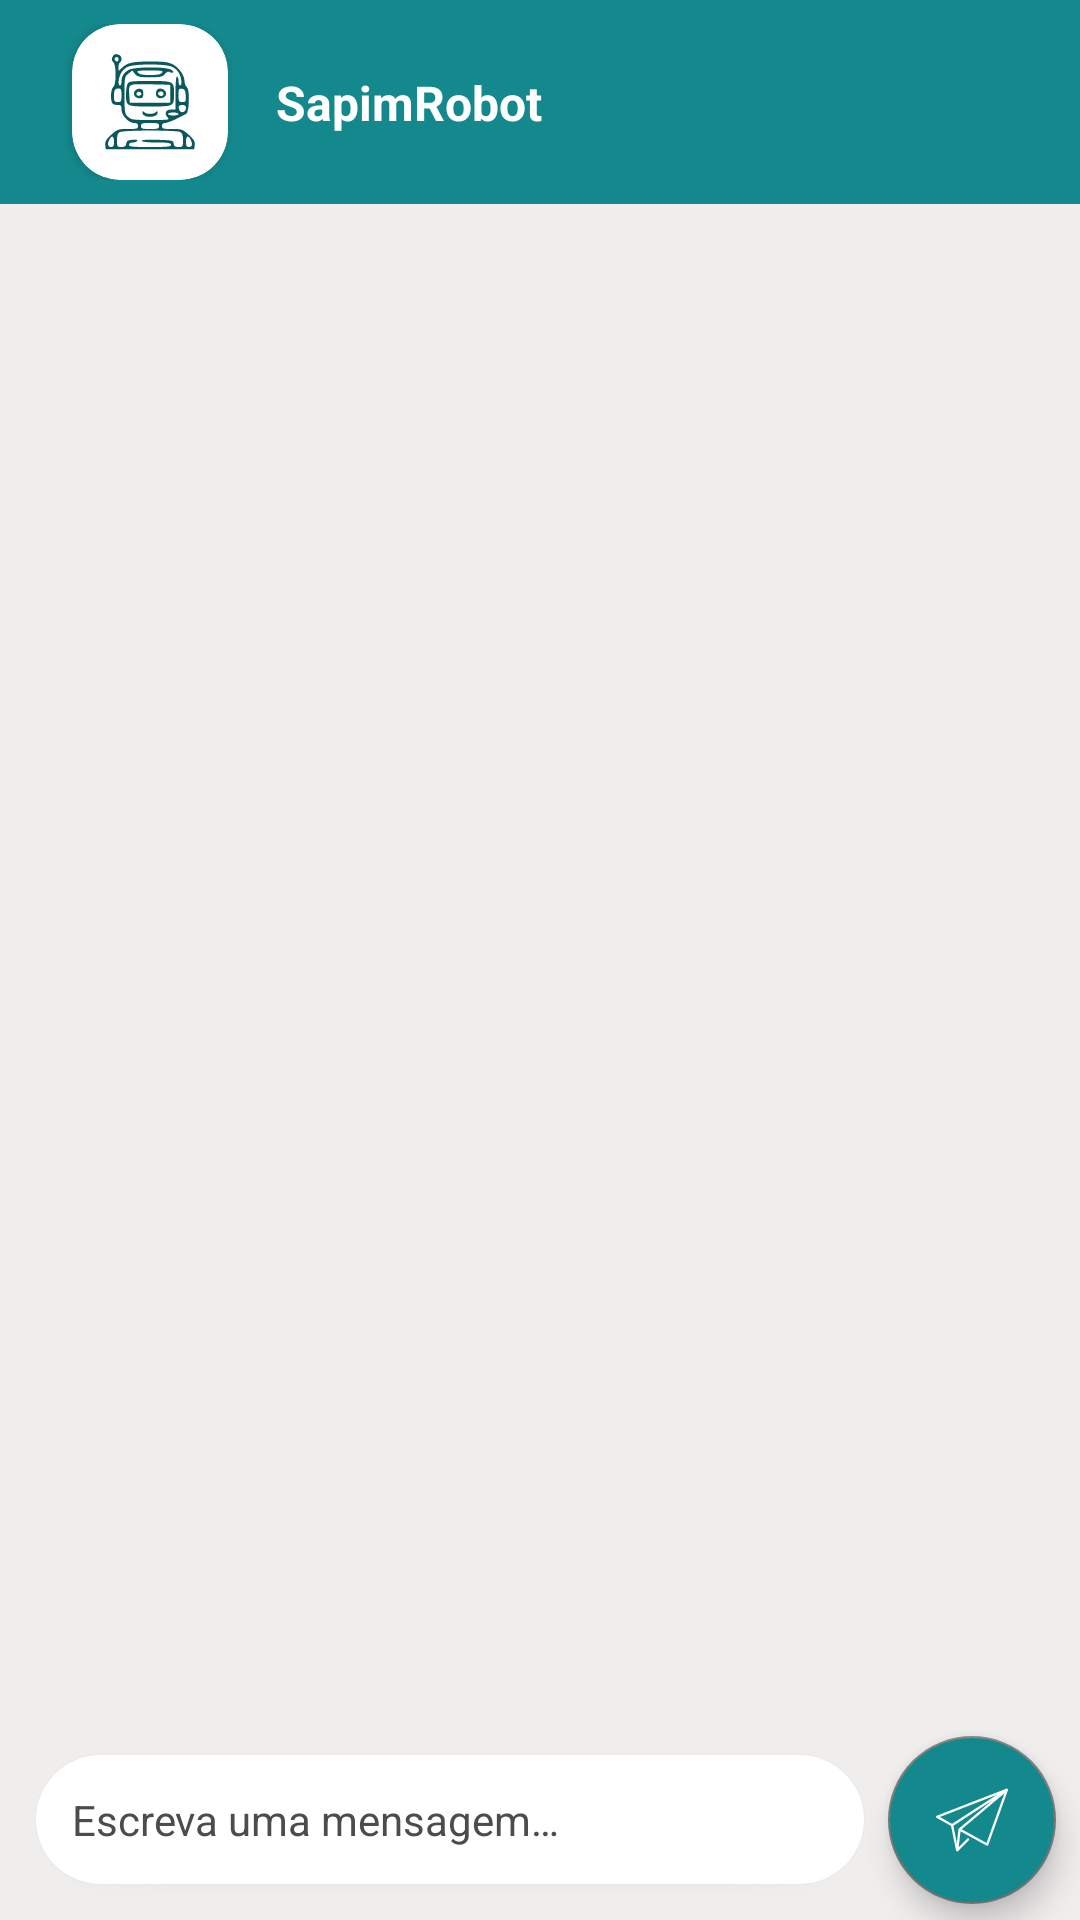

Icon click points for this 1080px×1920px phone screenshot, format point (x, y):
chatbot bot: point (150, 102)
chatbot send: point (972, 1820)
